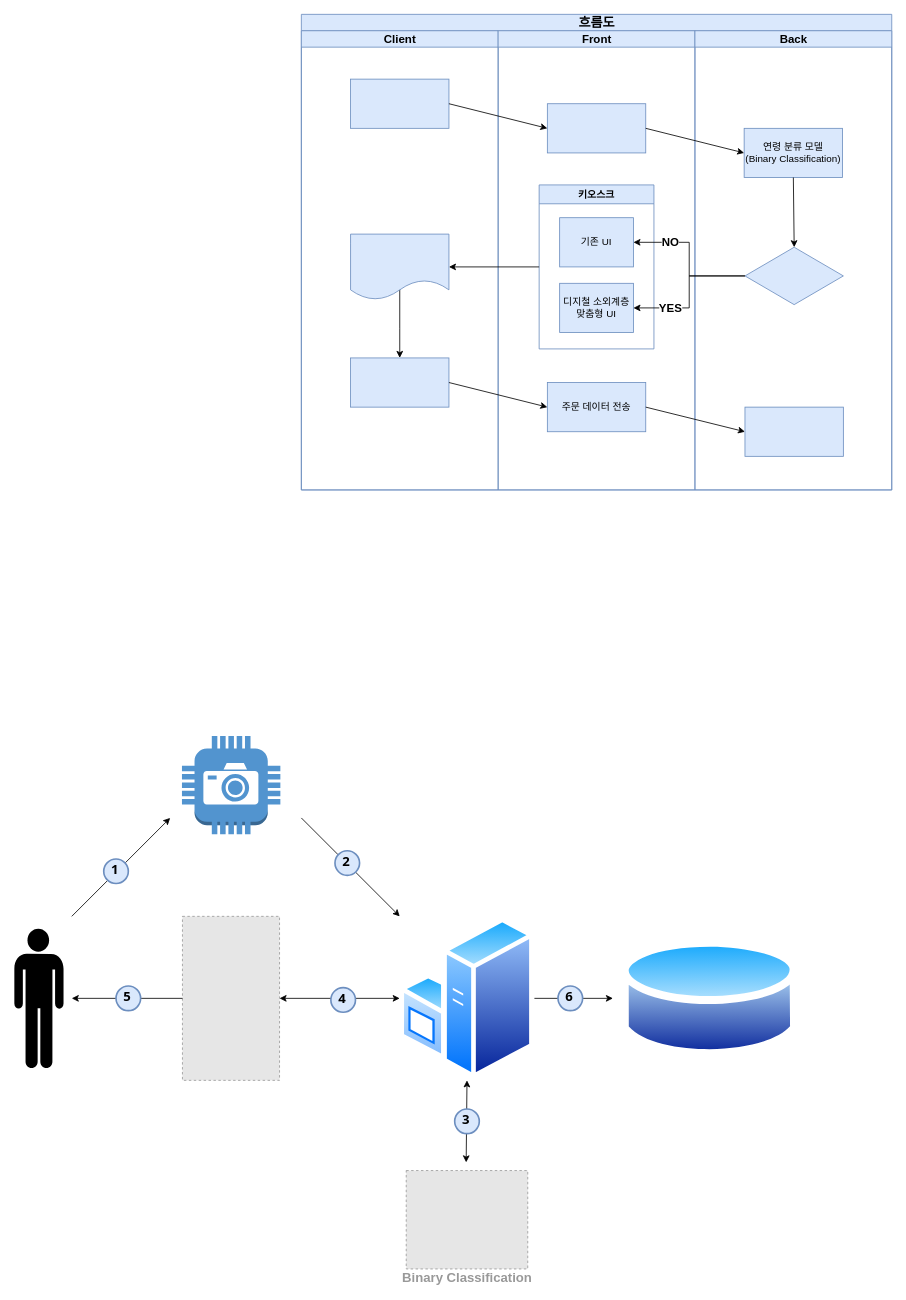
Image size: 906x1300. Some labels were removed from this diagram. Grey dashed boxes stand in for pictures. Here are the shapes that lost their labels. From the top down, the centre of each, then its label:
point (399, 103): 키오스크 접근
point (596, 128): 얼굴 탐지 (Obejct Detection)
point (399, 266): 맞춤형 UI 제공
point (793, 275): 40대 이상
point (399, 382): 키오스크 이용 주문 프로세스 진행
point (793, 431): 판매량 수집
point (230, 784): Face Detection
point (709, 998): DB
